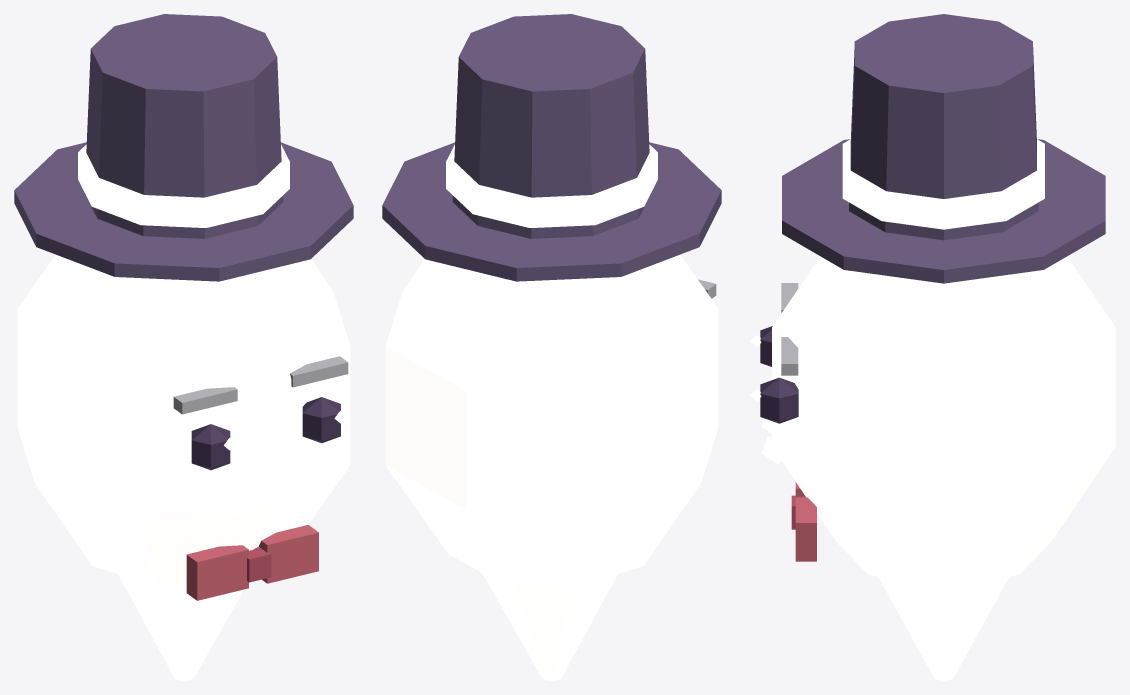
File: spirit_marrow.glb
The picture shows the model from 3 angles, left to right: view 1: azimuth 30°, elevation 25°; view 2: azimuth 150°, elevation 25°; view 3: azimuth 270°, elevation 25°; orthographic projection.
Parts seen in each view (by area): view 1: body, tip, eyes; view 2: body, tip; view 3: body, tip, eyes.
Boxes of the visible parts, x1,y1,x2,y2 form: body: (17, 255, 350, 680); tip: (14, 14, 353, 281); eyes: (191, 397, 346, 470); body: (385, 255, 718, 680); tip: (382, 14, 721, 281); body: (761, 256, 1115, 680); tip: (782, 14, 1105, 283); eyes: (750, 326, 798, 423).
Bounding box in the file's own units: 1.62 × 3.23 × 1.72.
